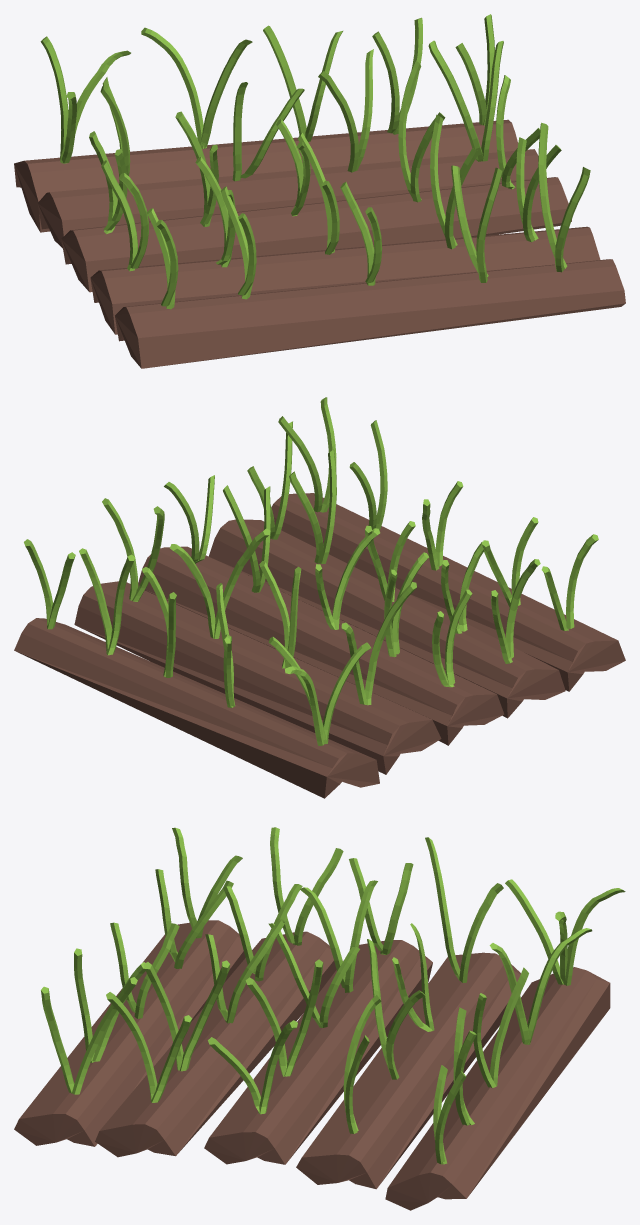
The model's file is ground.obj.
3 views of the same model, one above another, from view 1: azimuth 30°, elevation 25°; view 2: azimuth 150°, elevation 25°; view 3: azimuth 270°, elevation 25° (orthographic). The views are drawn at different scales.
Parts seen in each view (by area): view 1: group1171810856, group8985448, group1576233640, group2000573503, group635656032, group133449015, group733753505, group36840730, group745414203, group1044866113, group1433603592, group18274906 (+40 smaller); view 2: group2000573503, group635656032, group8985448, group1576233640, group1171810856, group98079217, group740640851, group1573773151, group333341769, group733753505, group70471125, group1044866113 (+34 smaller); view 3: group2000573503, group635656032, group1576233640, group8985448, group1171810856, group98079217, group733753505, group133449015, group1901016717, group1433603592, group2104848900, group1337613226 (+40 smaller).
Boxes of the visible parts, x1,y1,x2,y2 form: group1171810856: (115, 259, 625, 368); group8985448: (61, 177, 571, 292); group1576233640: (90, 226, 600, 334); group2000573503: (37, 149, 546, 248); group635656032: (14, 119, 518, 232); group133449015: (141, 27, 206, 148); group733753505: (538, 122, 567, 268); group36840730: (428, 40, 483, 161); group745414203: (200, 39, 252, 148); group1044866113: (476, 167, 502, 282); group1433603592: (398, 60, 421, 199); group18274906: (554, 167, 590, 272); group2000573503: (74, 581, 441, 774); group635656032: (14, 618, 379, 798); group8985448: (138, 546, 504, 745); group1576233640: (208, 519, 565, 718); group1171810856: (271, 493, 625, 691); group98079217: (364, 582, 416, 705); group740640851: (332, 528, 380, 629); group1573773151: (214, 528, 270, 638); group333341769: (323, 642, 371, 742); group733753505: (278, 416, 322, 512); group70471125: (106, 554, 135, 655); group1044866113: (370, 420, 387, 530); group2000573503: (296, 952, 520, 1189); group635656032: (385, 967, 610, 1210); group1576233640: (95, 931, 336, 1157); group8985448: (204, 940, 432, 1164); group1171810856: (14, 920, 245, 1146); group98079217: (425, 837, 460, 980); group733753505: (72, 977, 137, 1094); group133449015: (523, 928, 592, 1044); group1901016717: (180, 960, 230, 1071); group1433603592: (284, 959, 323, 1076); group2104848900: (490, 967, 528, 1086); group1337613226: (106, 992, 157, 1099).
Bounding box in the file's own units: 1.99 × 0.6771 × 2.07.
